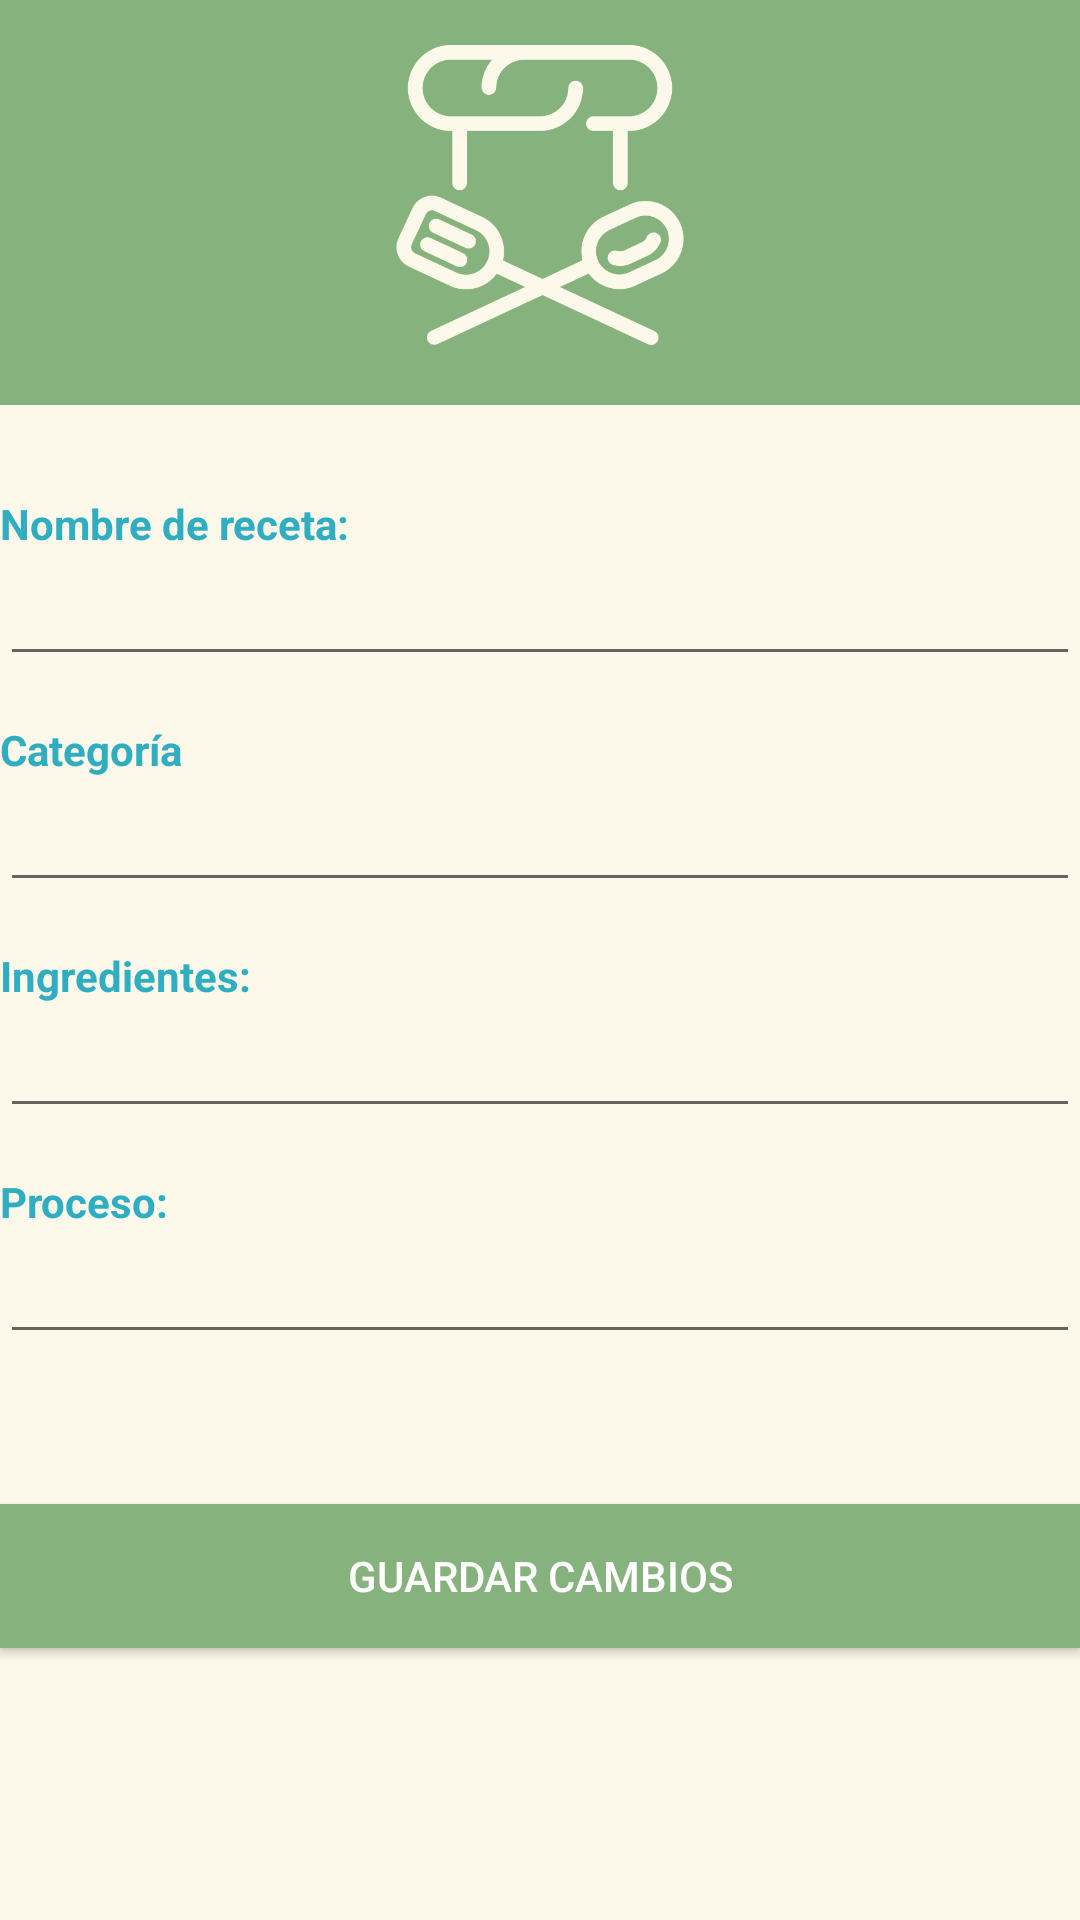

Icon click points for this 1080x1920 phone screenshot, format [x,y]:
cooker: [540,195]
